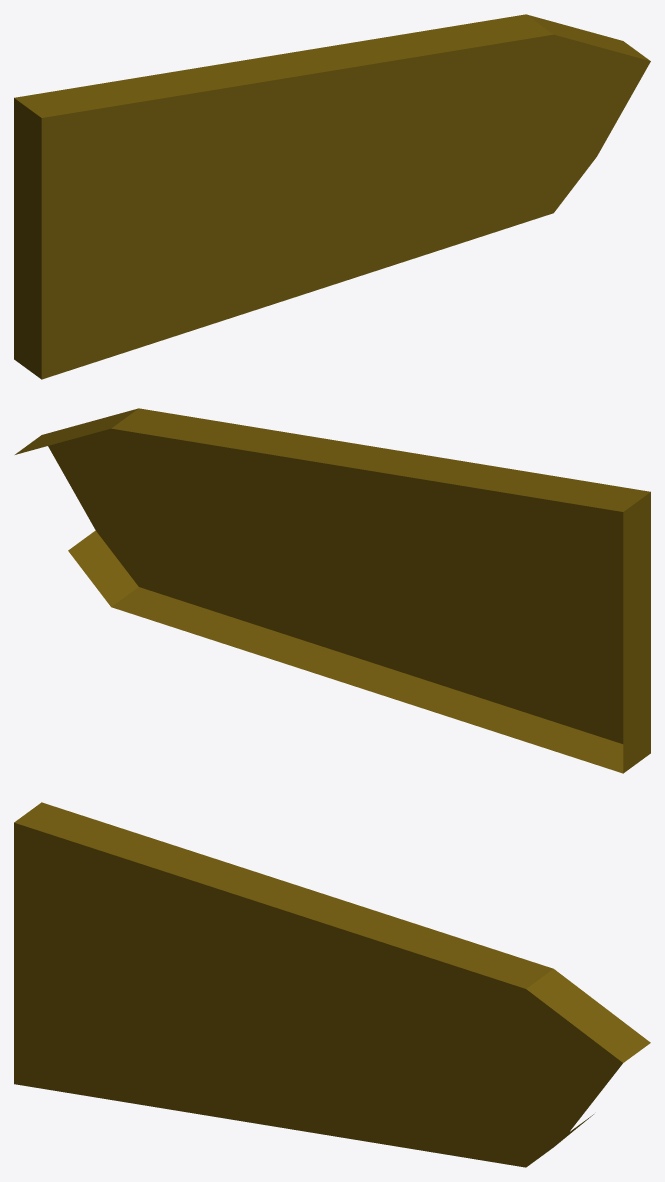
File: Pieza Rota Brazo Ahnk.fbx
3 views of the same model, one above another, from view 1: azimuth 30°, elevation 25°; view 2: azimuth 150°, elevation 25°; view 3: azimuth 330°, elevation 25° (orthographic).
Parts seen in each view (by area): view 1: pCube2; view 2: pCube2; view 3: pCube2.
Part boxes in pixels (left/top/right/bottom): pCube2: left=14, top=14, right=650, bottom=379; pCube2: left=15, top=408, right=650, bottom=773; pCube2: left=14, top=802, right=650, bottom=1167.
Size of the model in its own units: 1.66 by 0.6791 by 0.1304.
